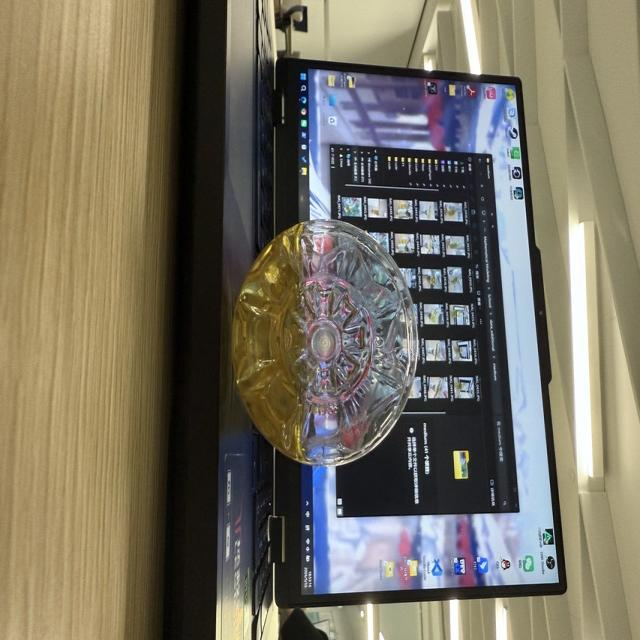low: (232, 221, 418, 464)
